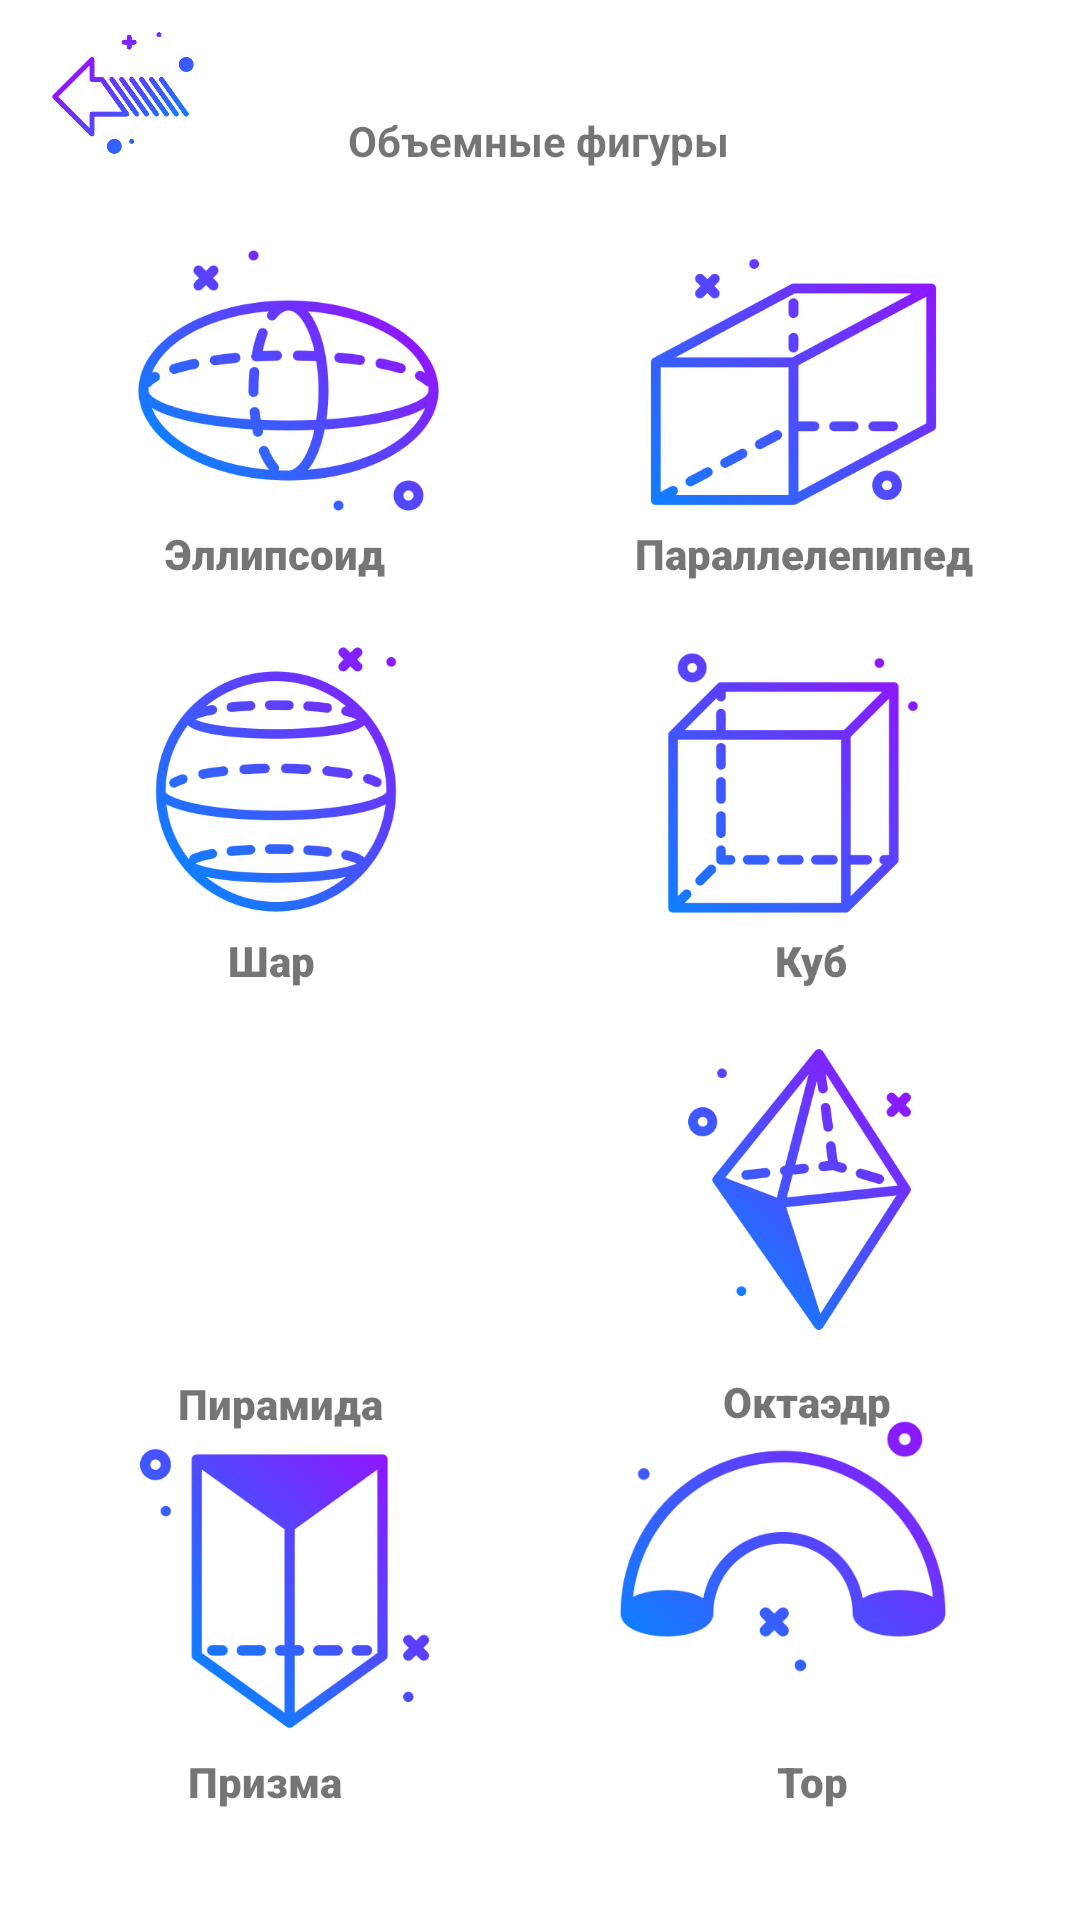

Where icons sit on this 1080x1920 app screen, as (x1, y1, x2, y2):
Назад: (52, 32, 194, 154)
